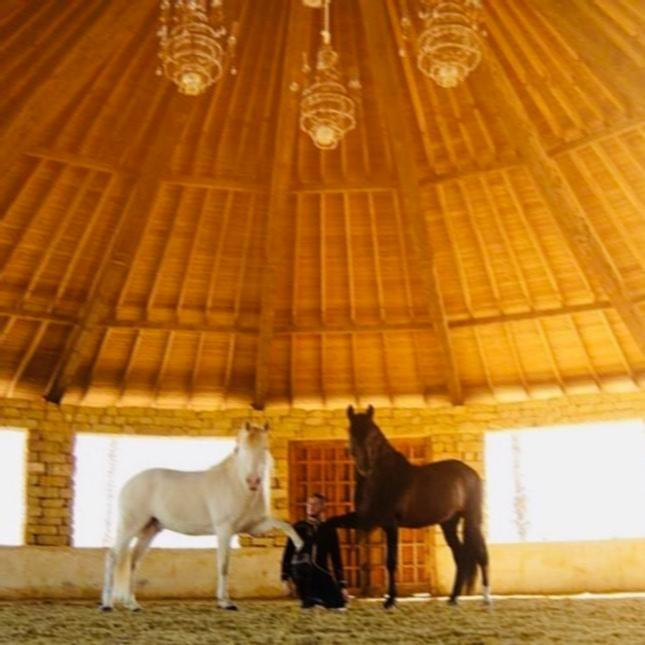horse: (96, 418, 306, 613), (344, 402, 492, 610)
